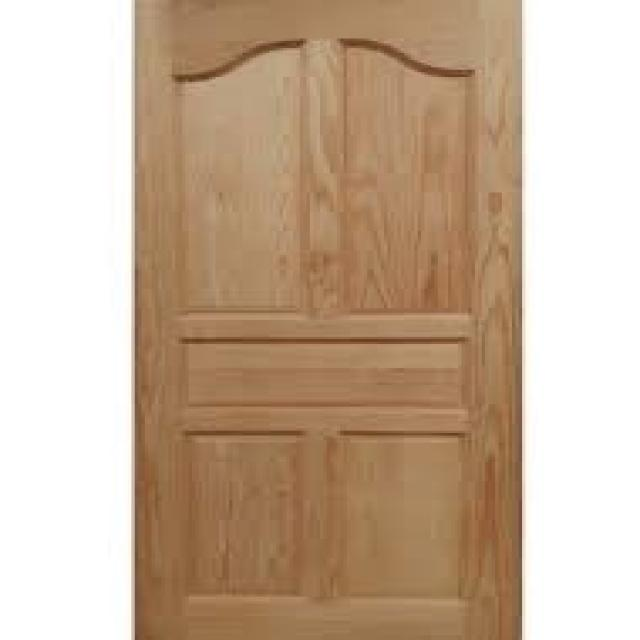door: (132, 0, 526, 640)
